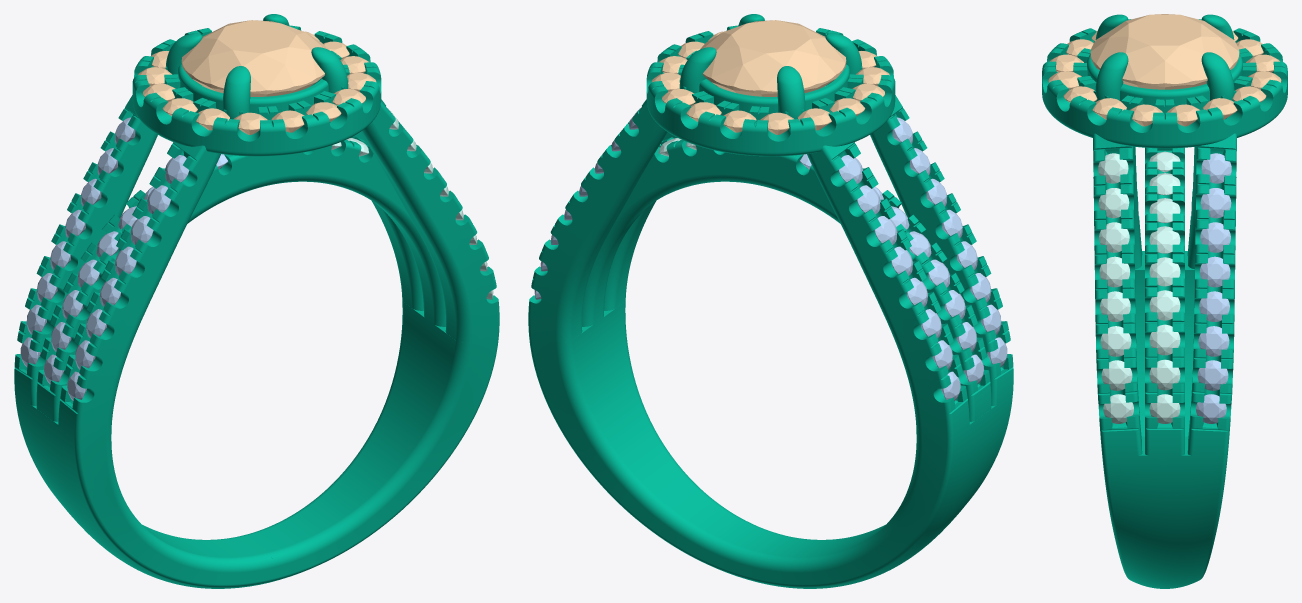
3 renders of one model, left to right at view 1: azimuth 30°, elevation 25°; view 2: azimuth 150°, elevation 25°; view 3: azimuth 270°, elevation 25°, orthographic.
Visible parts, largest first — view 1: JTC-13802(front).3dm, Diamond_Round; view 2: JTC-13802(front).3dm, Diamond_Round; view 3: JTC-13802(front).3dm, Diamond_Round (×36).
Boxes of the visible parts, box(x1,y1,x2,y2) form: JTC-13802(front).3dm: box(14, 14, 499, 588); Diamond_Round: box(181, 20, 327, 96); JTC-13802(front).3dm: box(528, 14, 1013, 588); Diamond_Round: box(700, 20, 846, 96); JTC-13802(front).3dm: box(1042, 14, 1287, 588); Diamond_Round (×36): box(1048, 14, 1281, 423).
Bounding box in the file's own units: 2.41 × 2.95 × 1.22.
